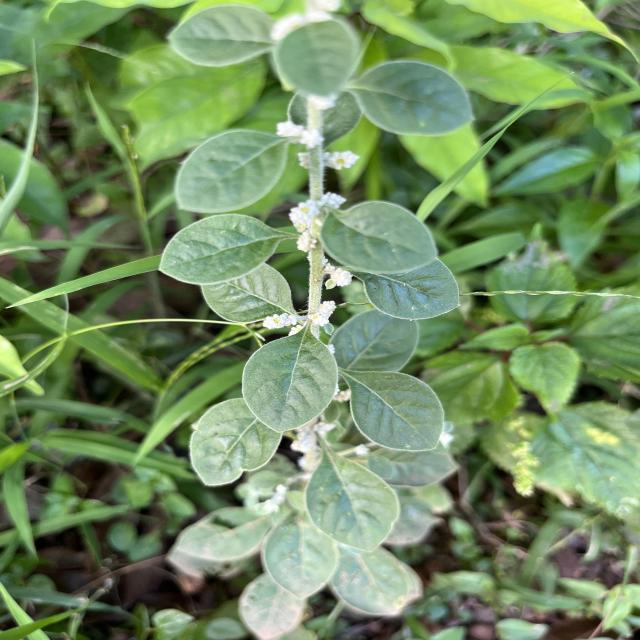Aerva lanata: (238, 326, 342, 437), (152, 210, 282, 288), (344, 366, 446, 454), (354, 258, 462, 322), (200, 261, 294, 327)
